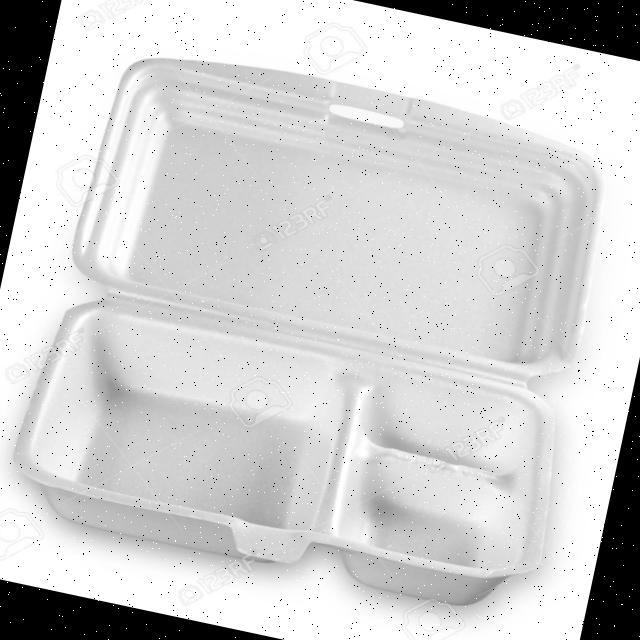styrofoam: (0, 29, 631, 623)
